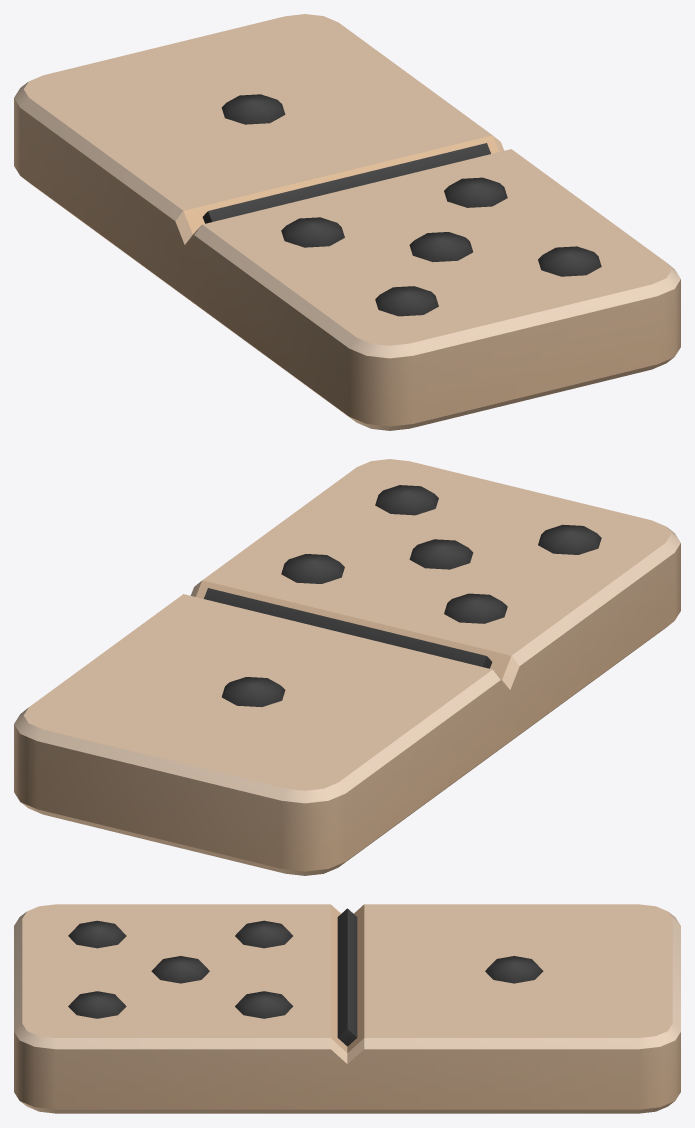
File: domino_tile_1-5.fbx
3 views of the same model, one above another, from view 1: azimuth 30°, elevation 25°; view 2: azimuth 150°, elevation 25°; view 3: azimuth 270°, elevation 25° (orthographic). The views are drawn at different scales.
Visible parts, largest first — view 1: domino_tile_1-5; view 2: domino_tile_1-5; view 3: domino_tile_1-5.
Boxes of the visible parts, x1,y1,x2,y2 form: domino_tile_1-5: [14, 14, 680, 430]; domino_tile_1-5: [14, 459, 680, 875]; domino_tile_1-5: [14, 904, 680, 1113].
Size of the model in its own units: 100 by 27.67 by 200.
